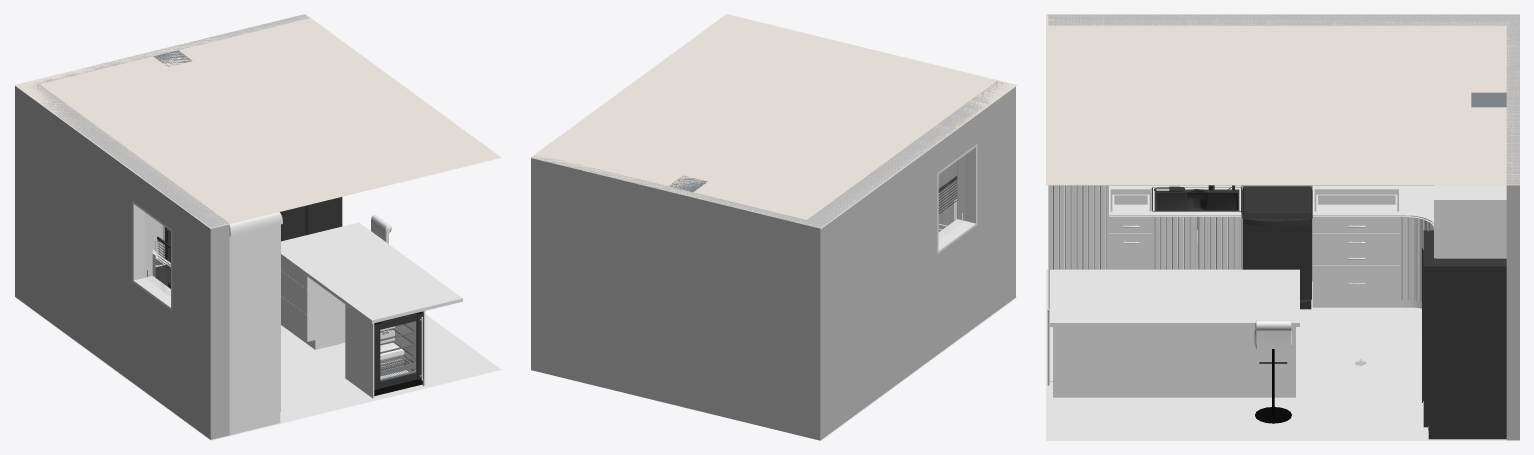
File: cuisine-contemporaine.glb
3 renders of one model, left to right at view 1: azimuth 30°, elevation 25°; view 2: azimuth 150°, elevation 25°; view 3: azimuth 270°, elevation 25°, orthographic. The views are drawn at different scales.
Bounding box in the file's own units: 3.51 × 2.44 × 4.1.
Materials: 2 (2 with a texture image).
